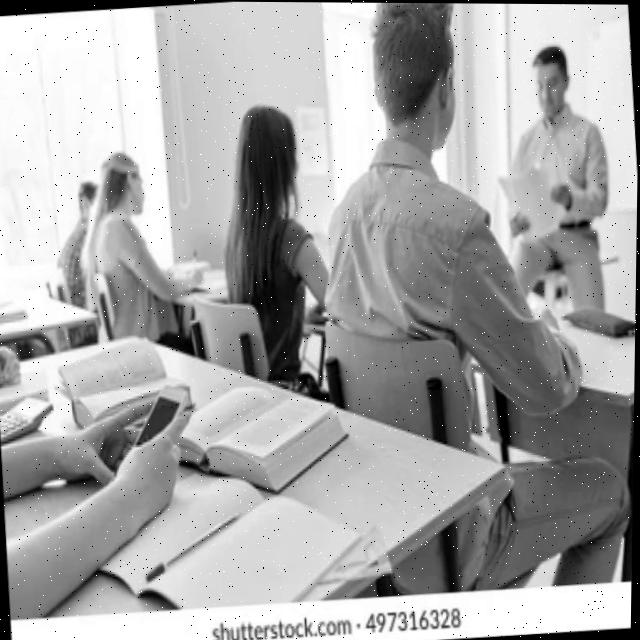phone: (128, 380, 193, 447), (0, 391, 56, 446)
